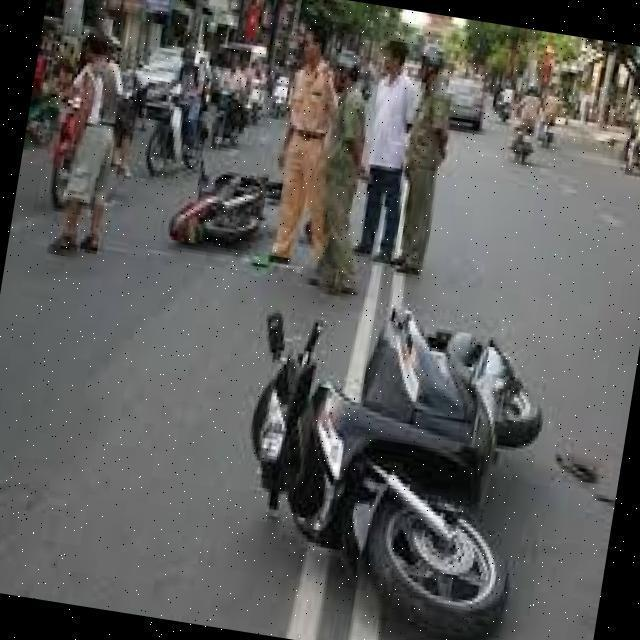accident: (224, 287, 563, 640), (173, 140, 298, 271)
